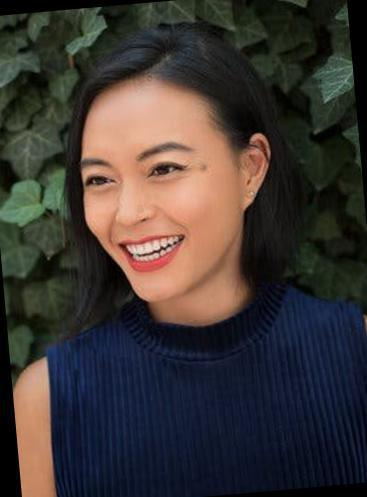Sober: (82, 105, 229, 294)
